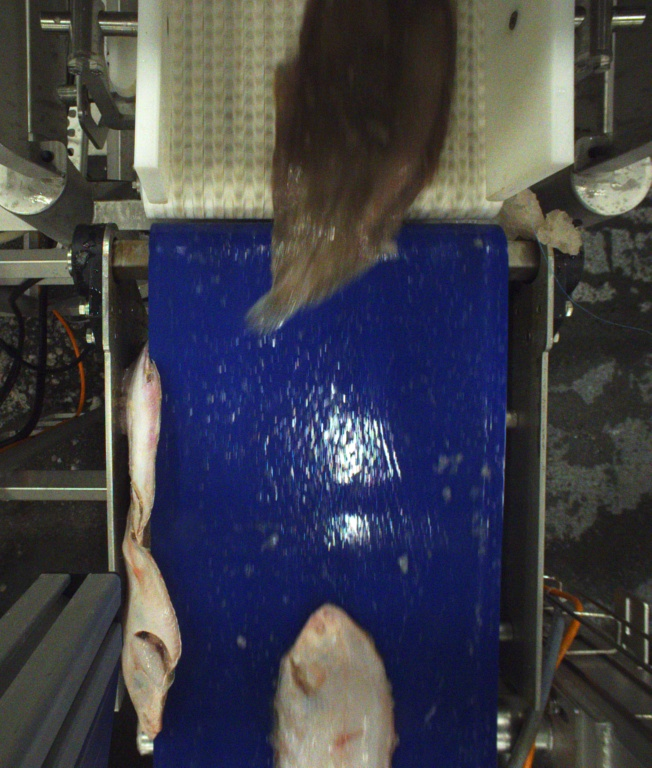SOL: (246, 0, 454, 332)
